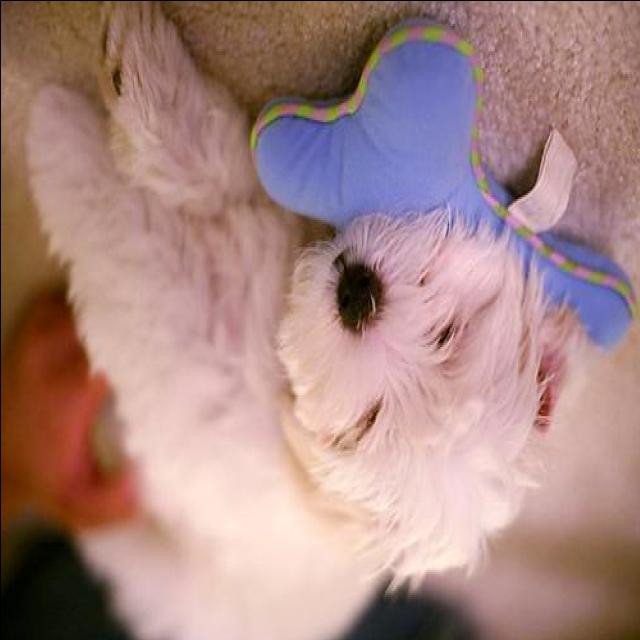maltese_dog: (26, 2, 554, 640)
